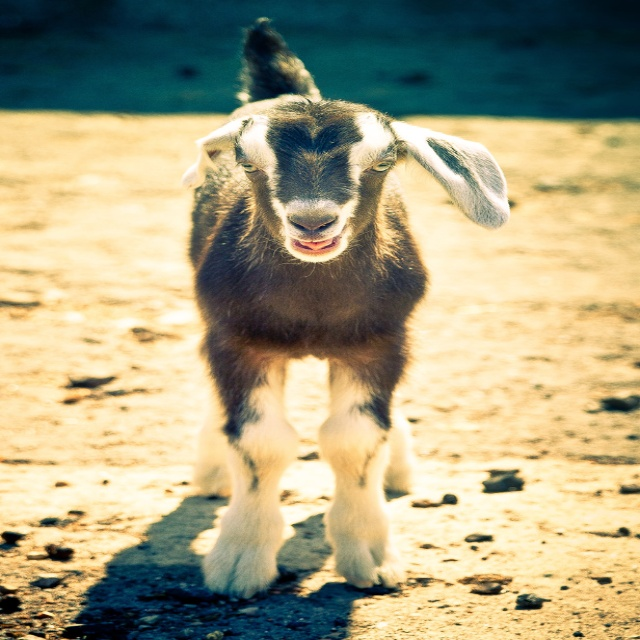Goat: (162, 50, 511, 611)
